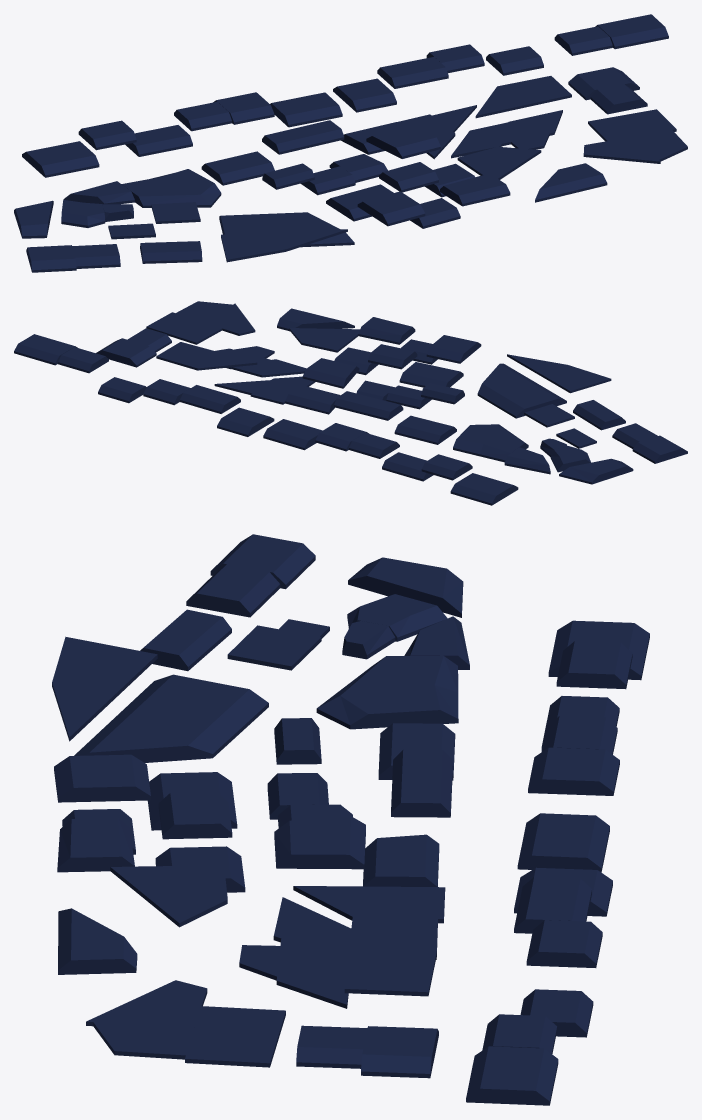
File: RoofNewLdTest.fbx
The picture shows the model from 3 angles, top to bottom: view 1: azimuth 30°, elevation 25°; view 2: azimuth 150°, elevation 25°; view 3: azimuth 270°, elevation 25°; orthographic projection. The views are drawn at different scales.
Parts seen in each view (by area): view 1: Roof; view 2: Roof; view 3: Roof.
Boxes of the visible parts, x1,y1,x2,y2 form: Roof: (14, 14, 687, 272); Roof: (14, 301, 687, 505); Roof: (52, 534, 649, 1105).
Bounding box in the file's own units: 164 × 4.98 × 71.25.
